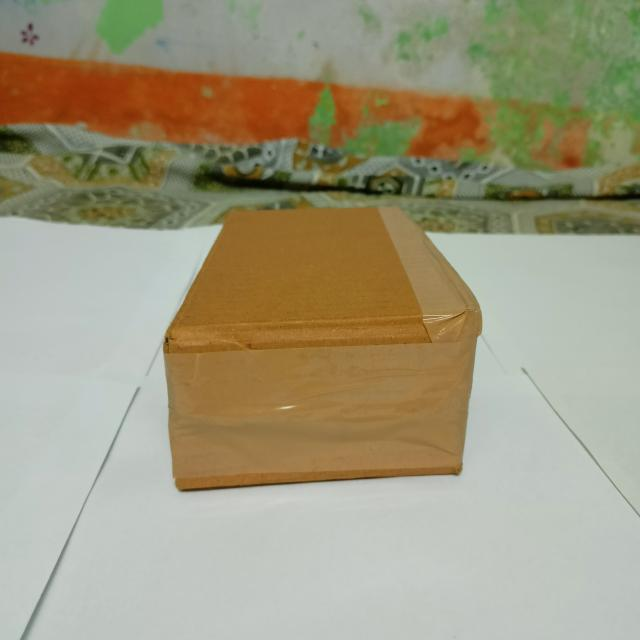box: (163, 208, 485, 496)
